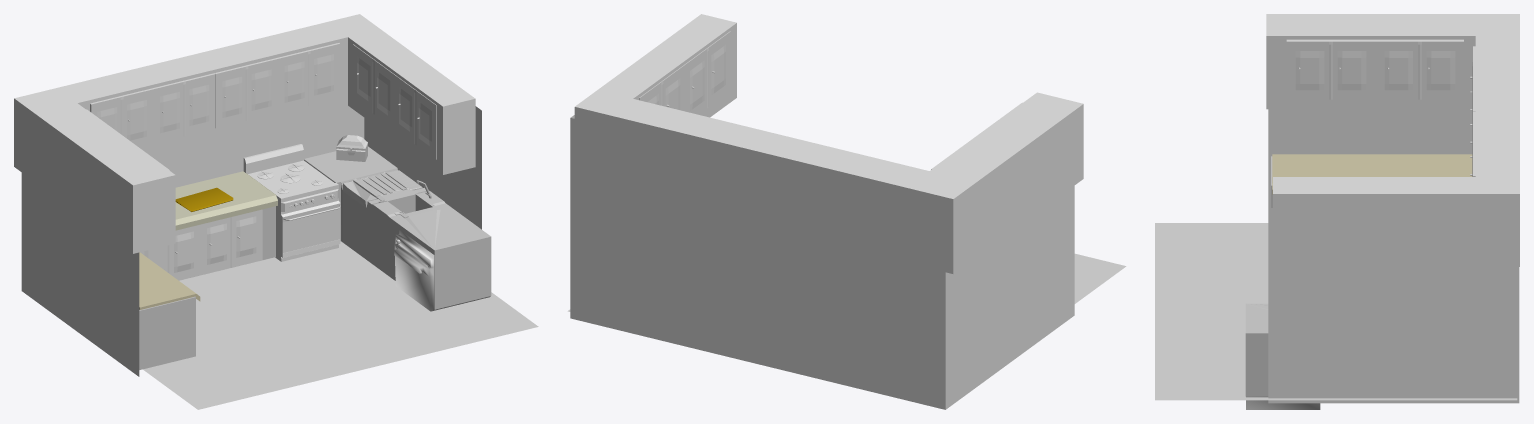
The model's file is kitchen.dae.
3 renders of one model, left to right at view 1: azimuth 30°, elevation 25°; view 2: azimuth 150°, elevation 25°; view 3: azimuth 270°, elevation 25°, orthographic. The views are drawn at different scales.
Parts seen in each view (by area): view 1: Cube_010, Plane, Plane_001, Cube, Cube_001, Cube_012, Cube_011, Cube_008, Cube_013, Cube_005, Cube_002, Cube_006 (+2 smaller); view 2: Plane_001, Cube_010, Cube_013, Plane; view 3: Plane_001, Cube_010, Plane, Cube_014, Cube_006, Cube, Cube_002.
Boxes of the visible parts, x1=… form: Cube_010: x1=14, y1=14, x2=475, y2=253; Plane: x1=143, y1=241, x2=538, y2=409; Plane_001: x1=21, y1=105, x2=481, y2=376; Cube: x1=139, y1=146, x2=491, y2=369; Cube_001: x1=243, y1=142, x2=340, y2=261; Cube_012: x1=215, y1=43, x2=340, y2=128; Cube_011: x1=90, y1=73, x2=215, y2=146; Cube_008: x1=140, y1=209, x2=262, y2=280; Cube_013: x1=353, y1=44, x2=436, y2=159; Cube_005: x1=175, y1=171, x2=277, y2=230; Cube_002: x1=394, y1=230, x2=490, y2=311; Cube_006: x1=139, y1=252, x2=200, y2=309; Plane_001: x1=570, y1=115, x2=1074, y2=409; Cube_010: x1=574, y1=14, x2=1083, y2=274; Cube_013: x1=639, y1=31, x2=730, y2=114; Plane: x1=567, y1=253, x2=1126, y2=311; Plane_001: x1=1268, y1=109, x2=1519, y2=403; Cube_010: x1=1266, y1=14, x2=1519, y2=266; Plane: x1=1155, y1=223, x2=1517, y2=400; Cube_014: x1=1286, y1=39, x2=1463, y2=99; Cube_006: x1=1272, y1=154, x2=1472, y2=194; Cube: x1=1245, y1=156, x2=1272, y2=396; Cube_002: x1=1246, y1=396, x2=1320, y2=409.
Bounding box in the file's own units: 12.48 × 10.45 × 6.79.
